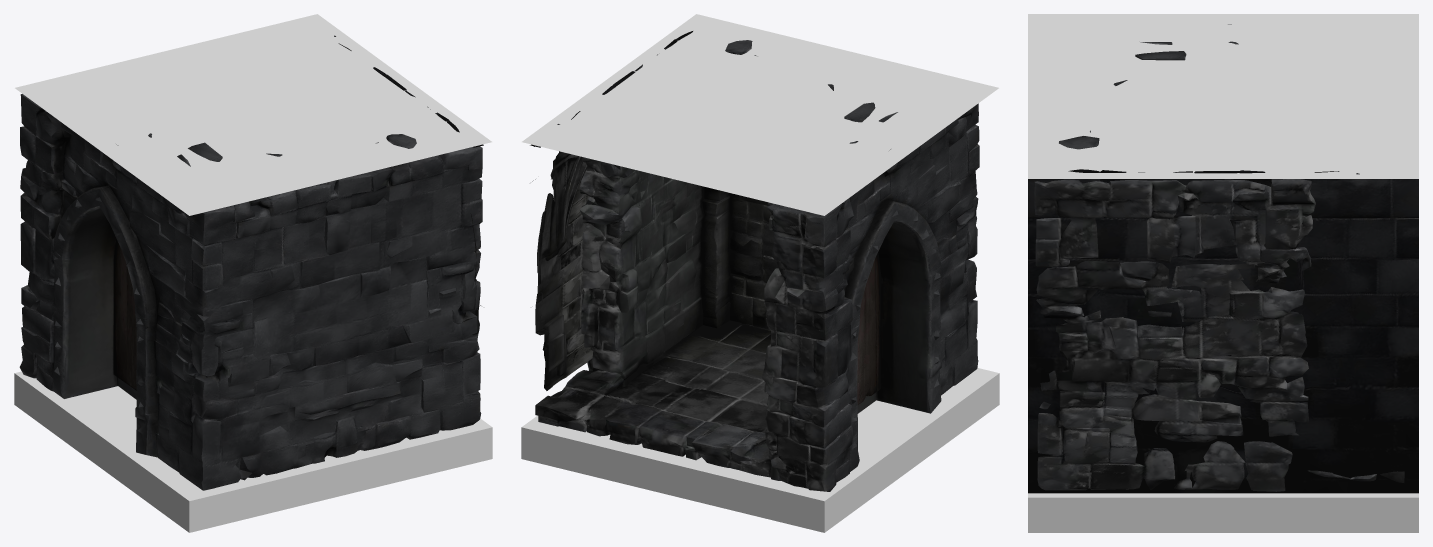
The model's file is module_gate.glb.
The picture shows the model from 3 angles, left to right: view 1: azimuth 30°, elevation 25°; view 2: azimuth 150°, elevation 25°; view 3: azimuth 270°, elevation 25°; orthographic projection. The views are drawn at different scales.
Visible parts, largest first — view 1: tripo_node_1dd0d600-ebc7-4a83-9fba-87d53496ca56; view 2: tripo_node_1dd0d600-ebc7-4a83-9fba-87d53496ca56; view 3: tripo_node_1dd0d600-ebc7-4a83-9fba-87d53496ca56.
Part boxes in pixels (x1,y1,x2,y2): tripo_node_1dd0d600-ebc7-4a83-9fba-87d53496ca56: (14, 14, 492, 532); tripo_node_1dd0d600-ebc7-4a83-9fba-87d53496ca56: (521, 14, 999, 532); tripo_node_1dd0d600-ebc7-4a83-9fba-87d53496ca56: (1028, 14, 1418, 532).
Bounding box in the file's own units: 6 × 6.03 × 6.
3 materials, 2 textured.
